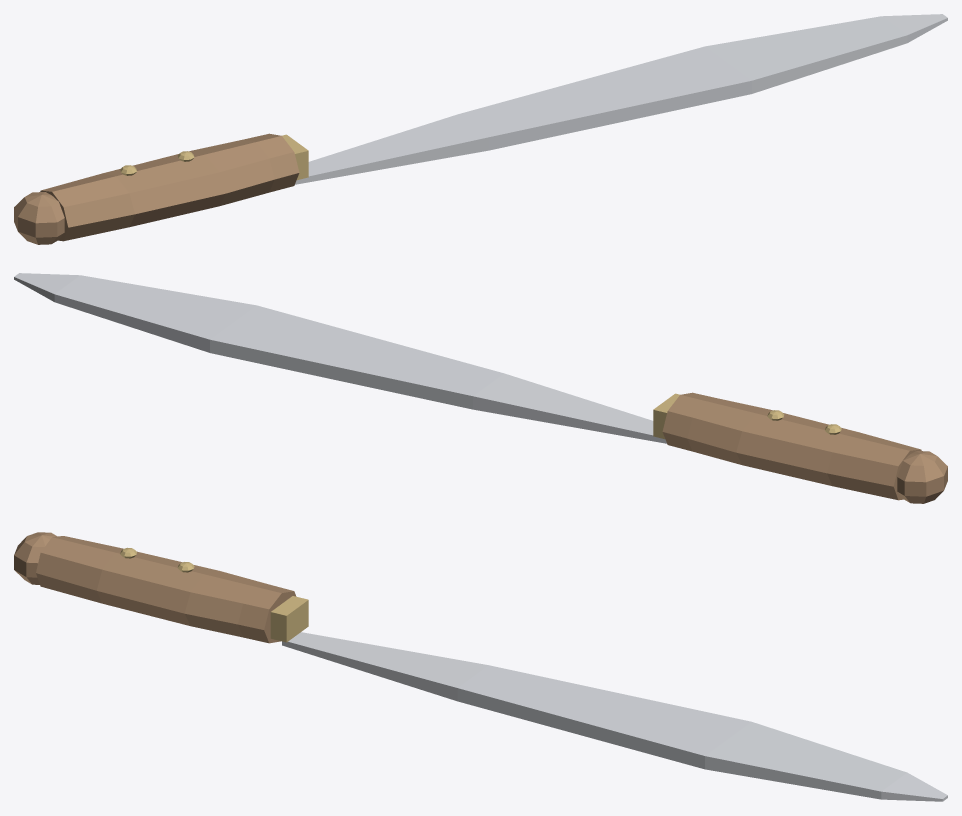
File: 16-Crafting_machete.glb
The picture shows the model from 3 angles, top to bottom: view 1: azimuth 30°, elevation 25°; view 2: azimuth 150°, elevation 25°; view 3: azimuth 330°, elevation 25°; orthographic projection.
Visible parts, largest first — view 1: SM_Machete_M_Machete_Acero, SM_Machete_M_Machete_Madera, SM_Machete_M_Machete_Bronce; view 2: SM_Machete_M_Machete_Acero, SM_Machete_M_Machete_Madera, SM_Machete_M_Machete_Bronce; view 3: SM_Machete_M_Machete_Acero, SM_Machete_M_Machete_Madera, SM_Machete_M_Machete_Bronce.
Boxes of the visible parts, x1,y1,x2,y2 form: SM_Machete_M_Machete_Acero: [295, 14, 947, 184]; SM_Machete_M_Machete_Madera: [14, 133, 299, 244]; SM_Machete_M_Machete_Bronce: [120, 134, 308, 180]; SM_Machete_M_Machete_Acero: [14, 273, 666, 443]; SM_Machete_M_Machete_Madera: [662, 392, 947, 503]; SM_Machete_M_Machete_Bronce: [653, 393, 841, 439]; SM_Machete_M_Machete_Acero: [282, 632, 947, 801]; SM_Machete_M_Machete_Madera: [14, 532, 296, 643]; SM_Machete_M_Machete_Bronce: [120, 547, 308, 642].
Size of the model in its own units: 0.7268 by 0.0425 by 0.0636.
